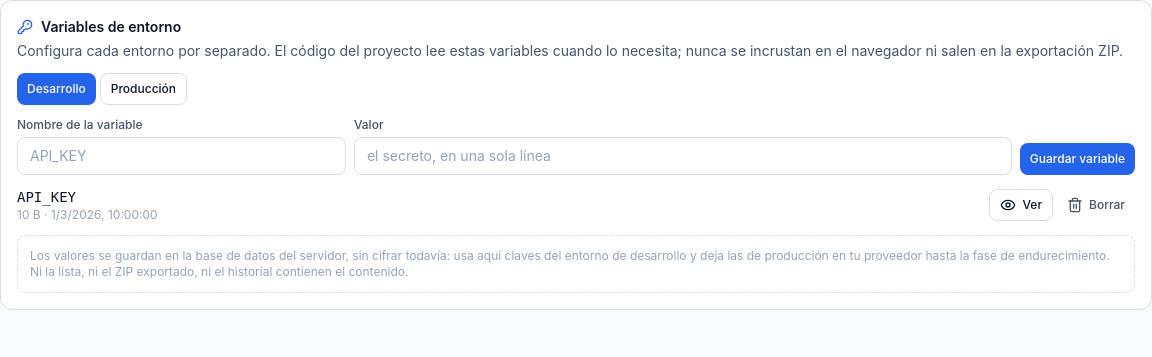
Test: ProjectEnv › el valor solo aparece cuando se pide y vuelve a ocultarse
The image size is (1152, 357).
Expected: the text "API_KEY" is shown, [17, 189, 76, 205]
Expected: the text "sk-privada-123" is not shown
What coordinates should you click on to do the following:
click the button with aria-label "Ver valor de API_KEY"
I would click on:
 (1021, 205)
Its box is [990, 189, 1053, 221].
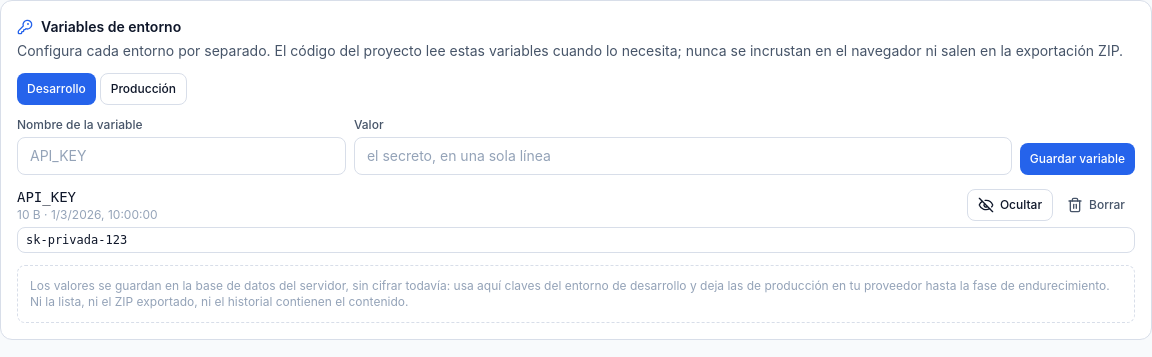
Expected: the text "sk-privada-123" is shown, [17, 227, 1135, 253]
What coordinates should you click on to do the following:
click the button with aria-label "Ocultar valor de API_KEY"
I would click on:
 (1010, 205)
Its box is [967, 189, 1053, 221].
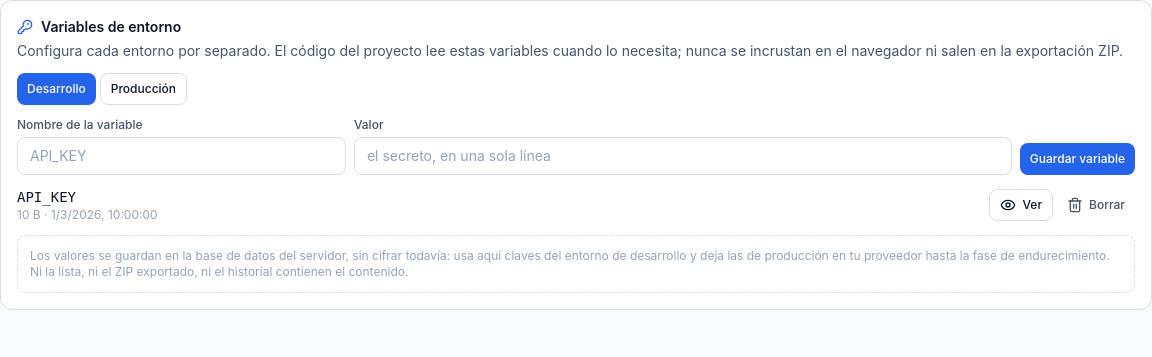
Expected: the text "sk-privada-123" is gone
